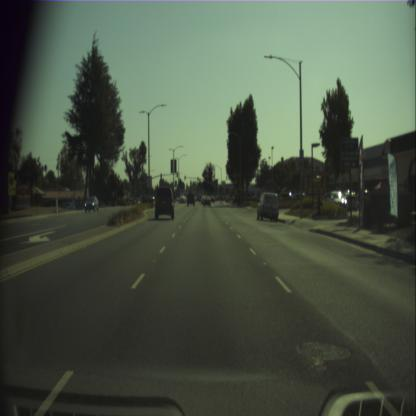off: (184, 174, 186, 180), (196, 176, 198, 180)
